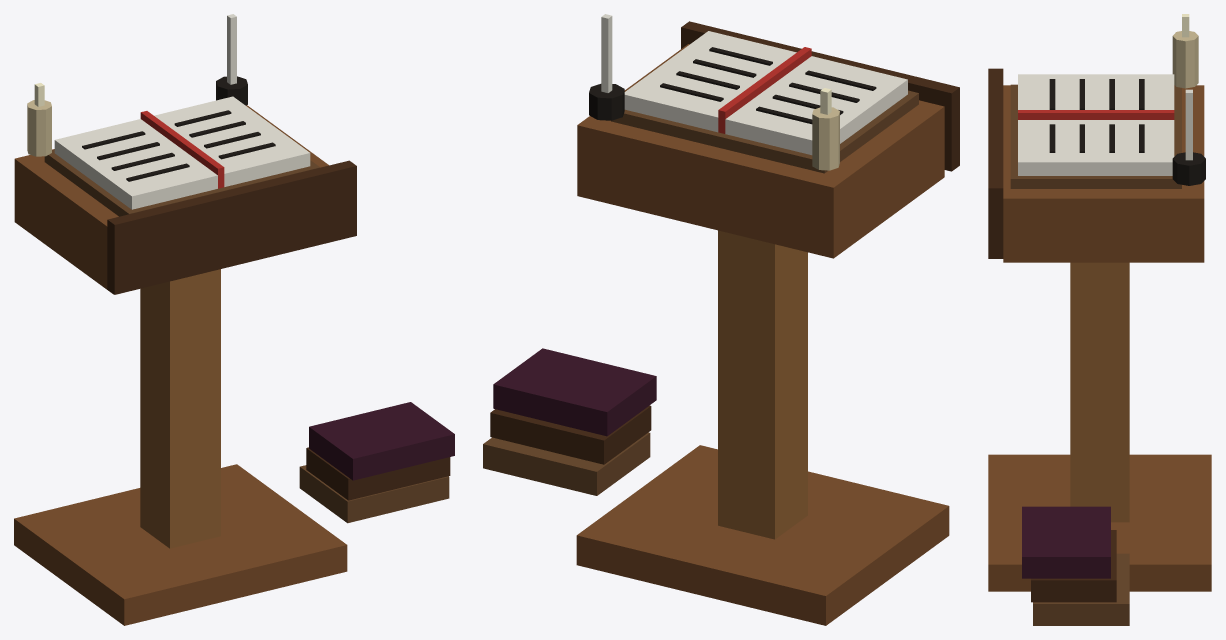
The model's file is camp_lectern.glb.
3 views of the same model, side by side, from view 1: azimuth 30°, elevation 25°; view 2: azimuth 150°, elevation 25°; view 3: azimuth 270°, elevation 25° (orthographic). The views are drawn at different scales.
Parts seen in each view (by area): view 1: camp_lectern; view 2: camp_lectern; view 3: camp_lectern.
Part boxes in pixels (<box>): camp_lectern: <box>14,14,454,625</box>; camp_lectern: <box>483,14,959,625</box>; camp_lectern: <box>988,14,1211,625</box>.
Size of the model in its own units: 1.12 by 1.46 by 0.6.
Materials: 1 (1 with a texture image).
